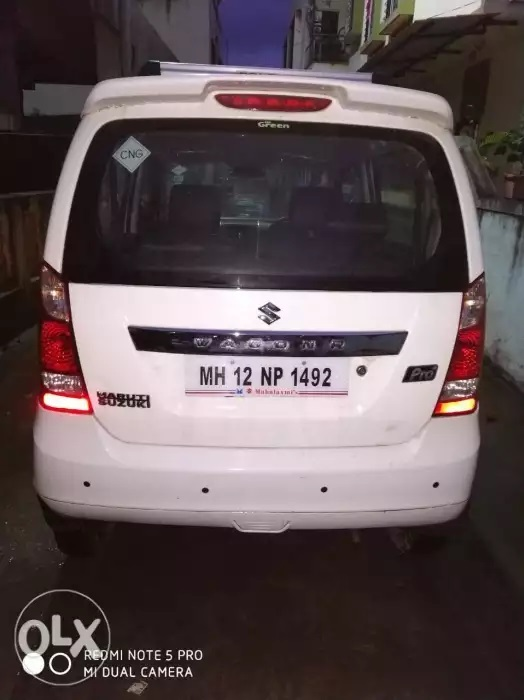licenseplate: (183, 351, 351, 401)
